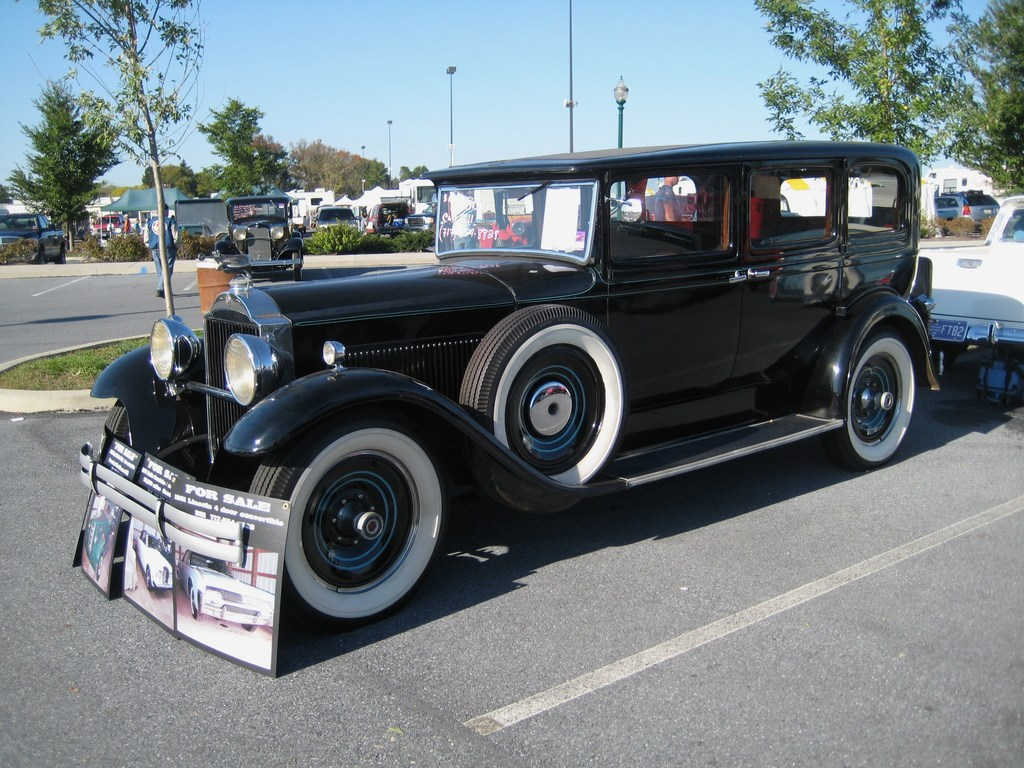Car: (72, 131, 923, 641), (0, 214, 78, 261), (933, 186, 1000, 224), (309, 208, 364, 227)
